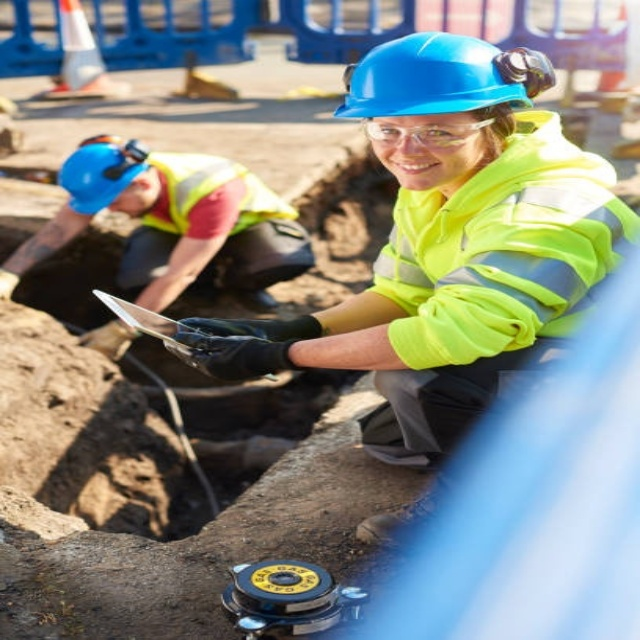Gafas: (359, 117, 493, 140)
Guantes: (171, 304, 322, 378), (74, 314, 143, 362)
Sin_mascara: (384, 155, 442, 186)
